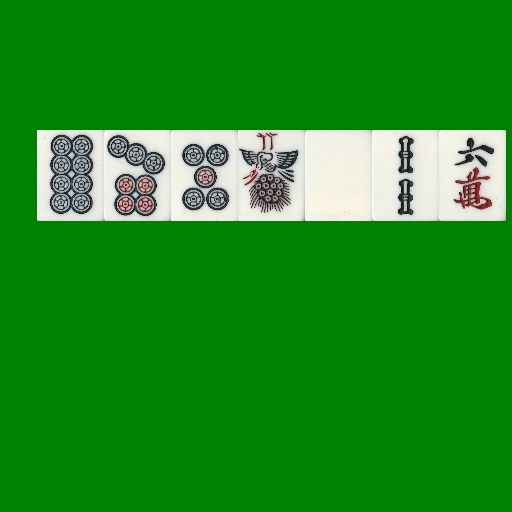1s: (238, 130, 305, 221)
2s: (372, 130, 439, 221)
5p: (171, 130, 238, 221)
6m: (439, 130, 506, 221)
7p: (104, 130, 171, 221)
8p: (37, 130, 104, 221)
white: (305, 130, 372, 221)
